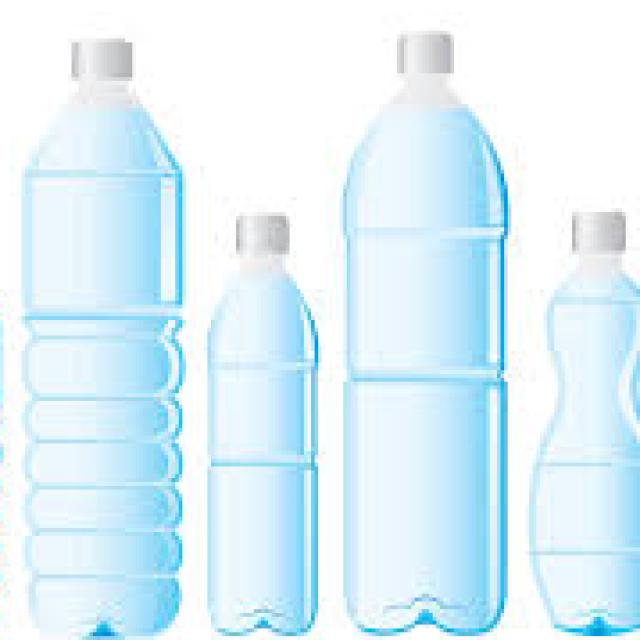organic: (336, 39, 510, 633), (13, 46, 188, 635), (526, 201, 639, 632), (196, 220, 310, 623)
